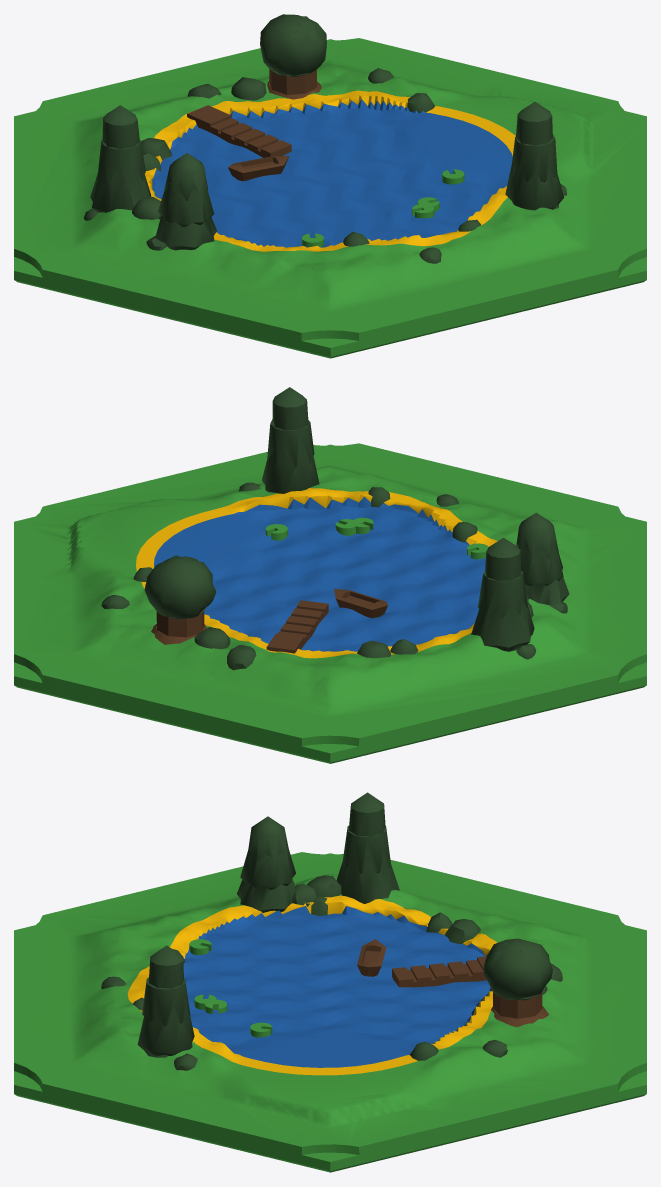
Rendered from wasser_2.glb.
3 renders of one model, top to bottom at view 1: azimuth 30°, elevation 25°; view 2: azimuth 150°, elevation 25°; view 3: azimuth 270°, elevation 25°, orthographic.
Parts seen in each view (by area): view 1: wasser_2; view 2: wasser_2; view 3: wasser_2.
Part boxes in pixels (x1=…): wasser_2: x1=14, y1=14, x2=646, y2=358; wasser_2: x1=14, y1=387, x2=646, y2=763; wasser_2: x1=14, y1=792, x2=646, y2=1172.
Bounding box in the file's own units: 65.24 × 13.22 × 56.5.
